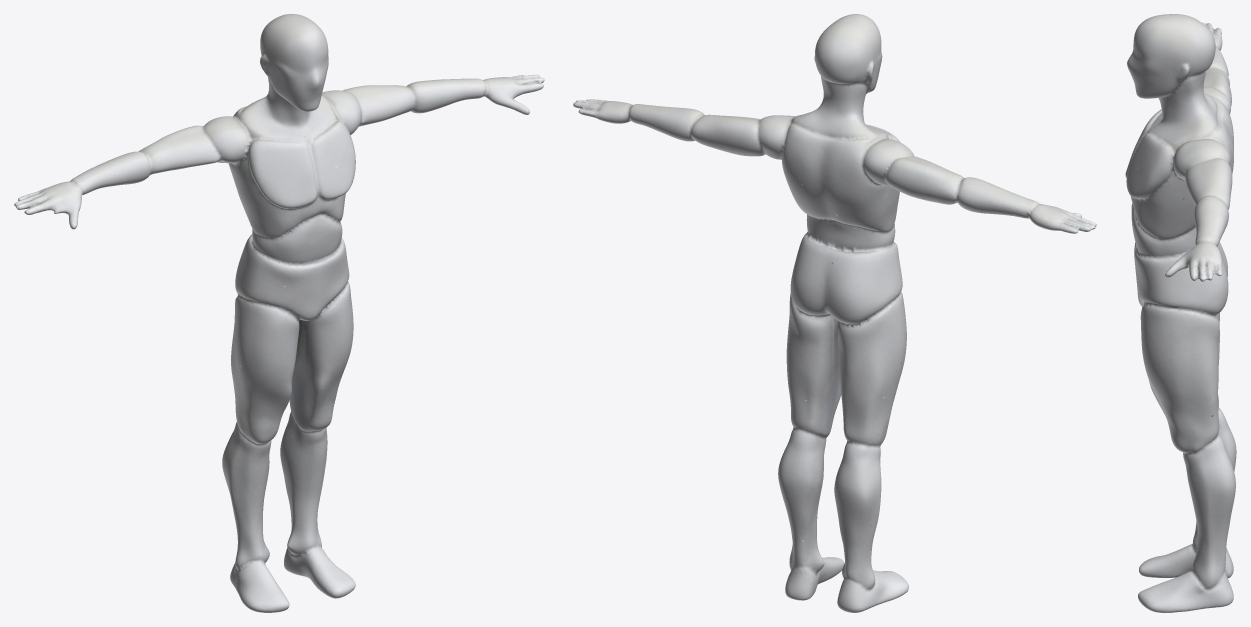
The model's file is Meshy_AI_Shadow_Armor_0426025753_texture_compressed.glb.
The picture shows the model from 3 angles, left to right: view 1: azimuth 30°, elevation 25°; view 2: azimuth 150°, elevation 25°; view 3: azimuth 270°, elevation 25°; orthographic projection.
Bounding box in the file's own units: 1.92 × 2 × 0.3516.
1 material, 1 textured.
